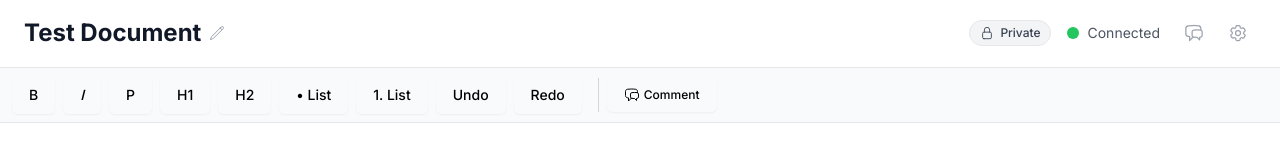
Test: Document Page - Title Editing › saves title when Enter key is pressed
Check: the heading "Test Document" is shown, box [24, 17, 201, 49]
Click the element showing "Test Document" at point(125, 32), box [24, 18, 225, 47]
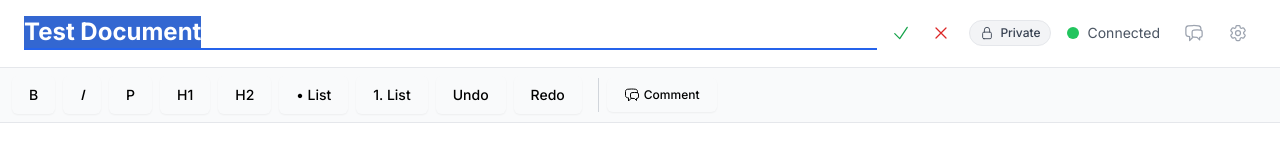
Check: the field showing "Test Document" is shown
Replace the text in the field showing "Test Document" with "Updated Title" at point(451, 33), box [24, 16, 877, 50]
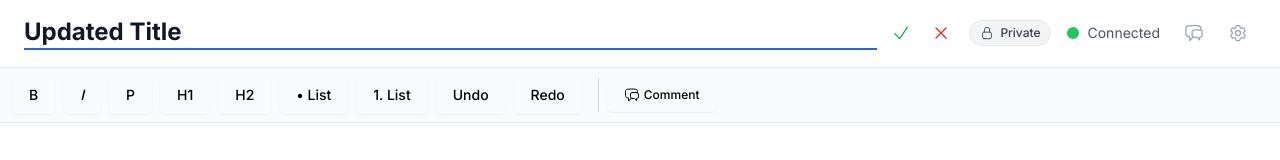
Press Enter
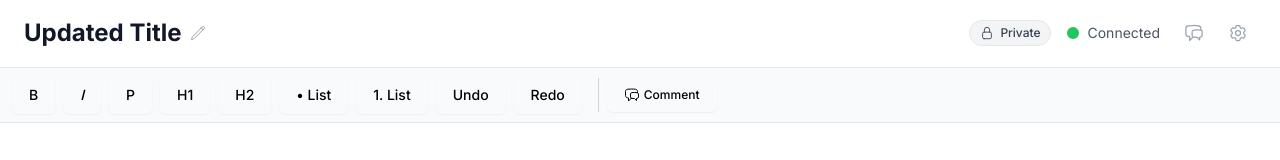
Check: the heading "Updated Title" is shown, box [24, 17, 182, 49]
